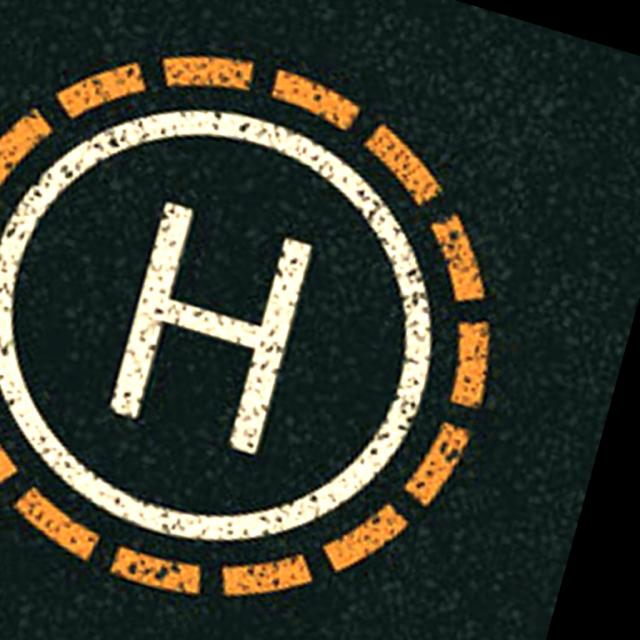helipad: (0, 99, 444, 552)
